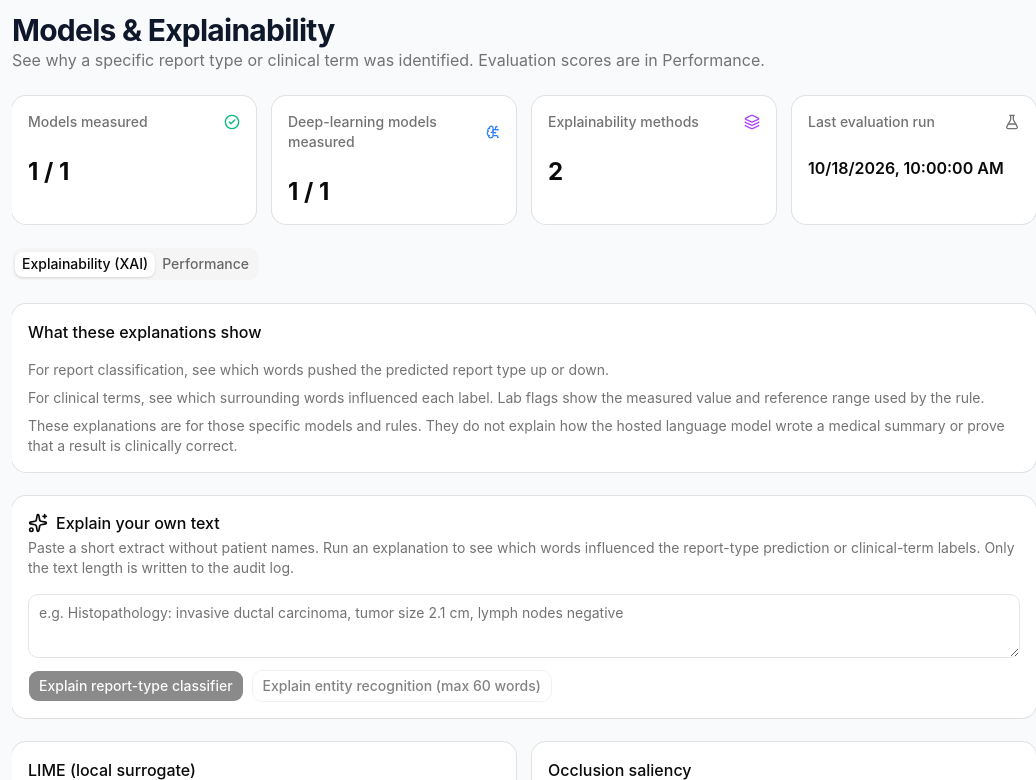
Test: ModelPerformancePage › shows measured scores with their formatting
The image size is (1036, 780).
Click the tab "Performance": (206,264) [155,252,256,276]
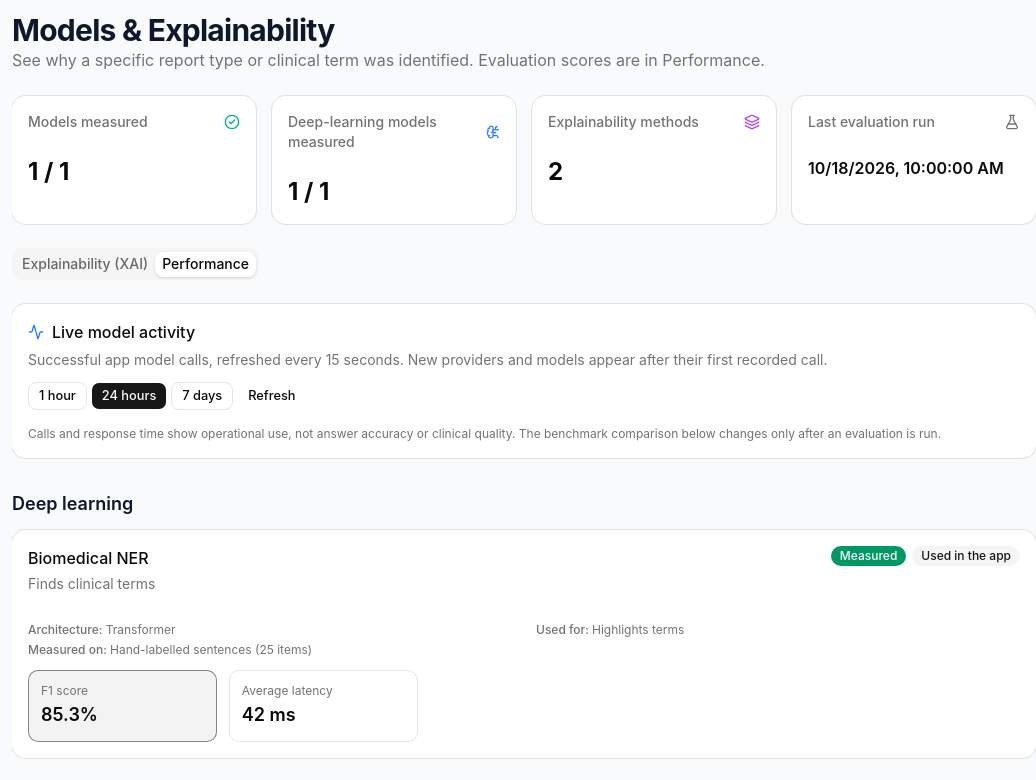
Now the text "Measured" is shown, box [831,546,906,566]
Now the text "85.3%" is shown, box [41,704,98,725]
Now the text "42 ms" is shown, box [242,704,296,725]
